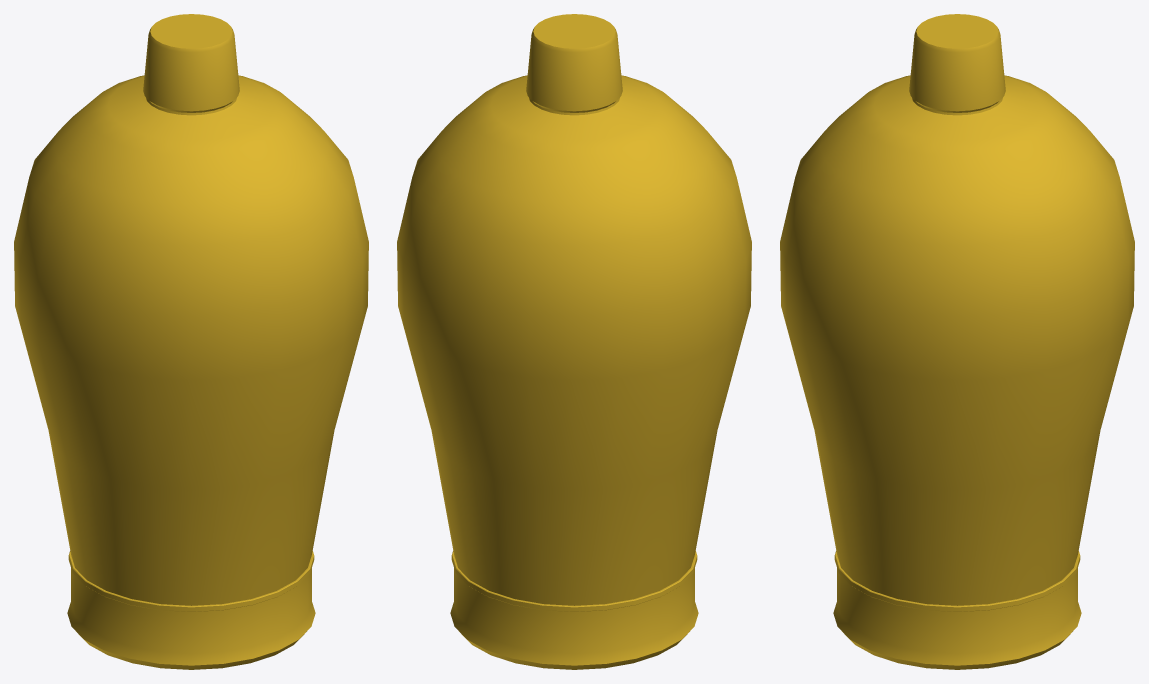
The model's file is lemon_acid_bottle.fbx.
3 views of the same model, side by side, from view 1: azimuth 30°, elevation 25°; view 2: azimuth 150°, elevation 25°; view 3: azimuth 270°, elevation 25° (orthographic).
Parts seen in each view (by area): view 1: lemon_acid_bottle; view 2: lemon_acid_bottle; view 3: lemon_acid_bottle.
Part boxes in pixels (left/top/right/bottom): lemon_acid_bottle: left=14, top=14, right=368, bottom=669; lemon_acid_bottle: left=397, top=14, right=751, bottom=669; lemon_acid_bottle: left=780, top=14, right=1134, bottom=669.
Bounding box in the file's own units: 5.17 × 9.45 × 5.17.
